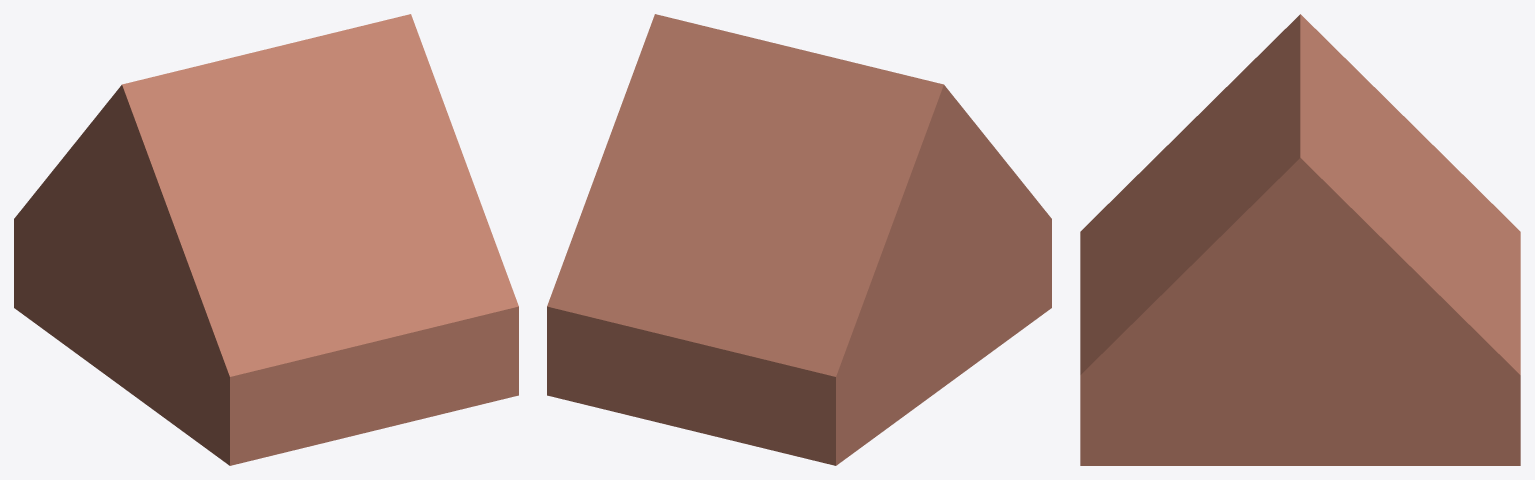
The model's file is garage_ridge_cap_end.glb.
3 views of the same model, side by side, from view 1: azimuth 30°, elevation 25°; view 2: azimuth 150°, elevation 25°; view 3: azimuth 270°, elevation 25° (orthographic).
Visible parts, largest first — view 1: garage_ridge_cap_end_ridge; view 2: garage_ridge_cap_end_ridge; view 3: garage_ridge_cap_end_ridge.
Boxes of the visible parts, x1,y1,x2,y2 form: garage_ridge_cap_end_ridge: [14, 14, 518, 465]; garage_ridge_cap_end_ridge: [547, 14, 1051, 465]; garage_ridge_cap_end_ridge: [1080, 14, 1520, 465].
Size of the model in its own units: 0.34 by 0.34 by 0.44.
